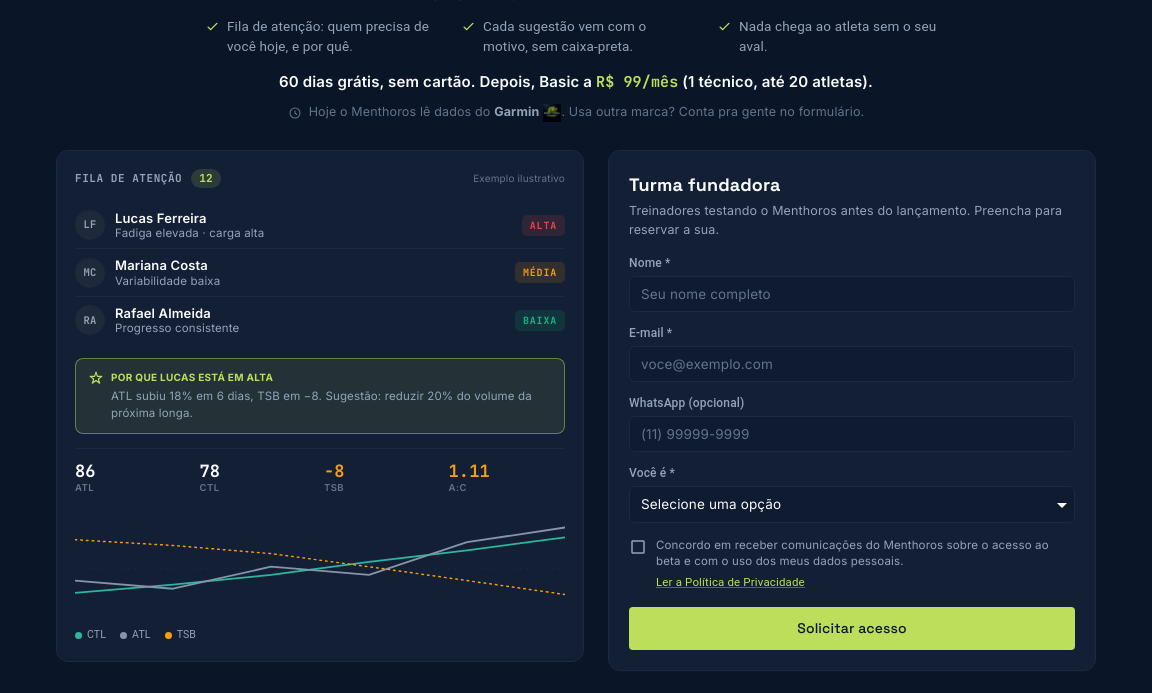
WaitlistPage › não envia sem selecionar perfil nem aceitar a LGPD, e mostra os erros
The image size is (1152, 693).
(page scrolled)
Click the button "Solicitar acesso": (852, 628) [629, 607, 1075, 650]
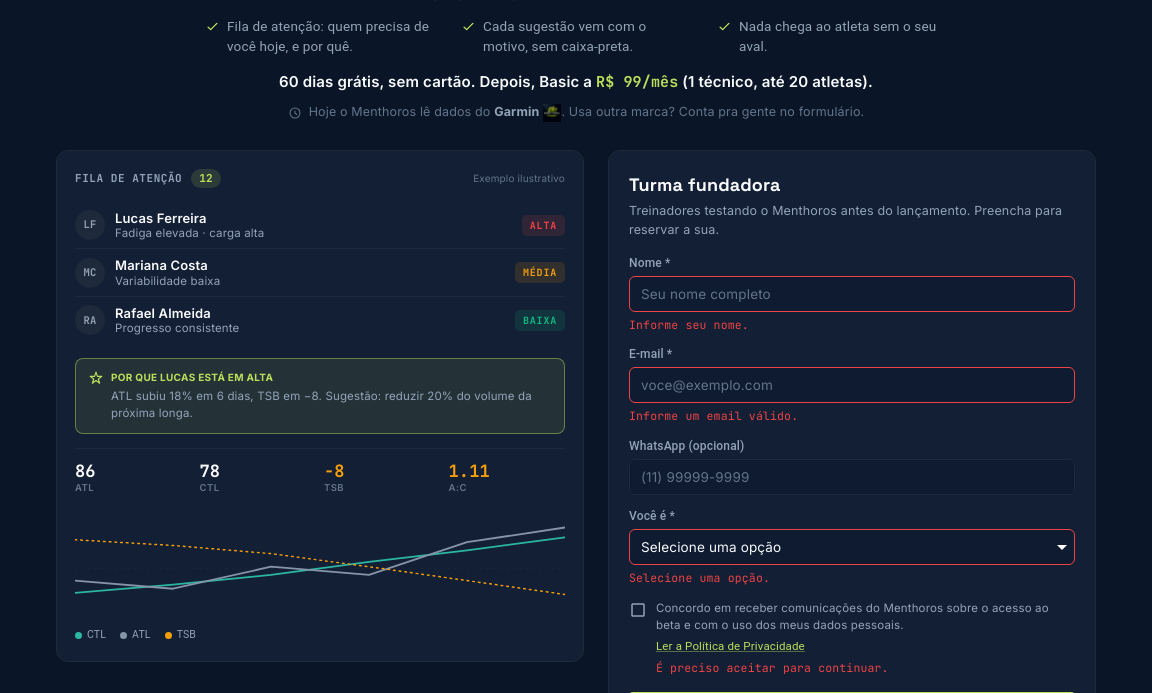
Expected: the text "Selecione uma opção." is shown, [629, 570, 770, 585]
Expected: the text "É preciso aceitar para continuar." is shown, [656, 660, 889, 675]
